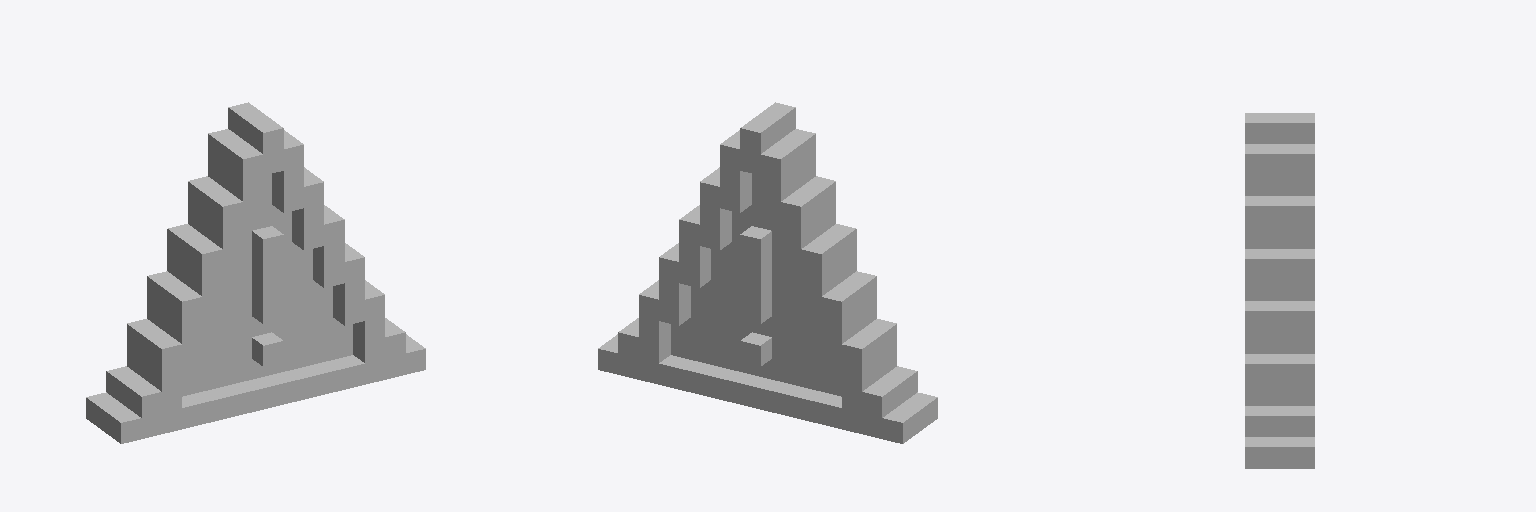
Rendered from warning.obj.
3 views of the same model, side by side, from view 1: azimuth 30°, elevation 25°; view 2: azimuth 150°, elevation 25°; view 3: azimuth 270°, elevation 25° (orthographic).
Visible parts, largest first — view 1: object 1; view 2: object 1; view 3: object 1.
Part boxes in pixels (x1,y1,x2,y2): object 1: (86,102,425,443); object 1: (598,102,937,443); object 1: (1245,113,1314,468).
Bounding box in the file's own units: 1.5 × 1.3 × 0.3.